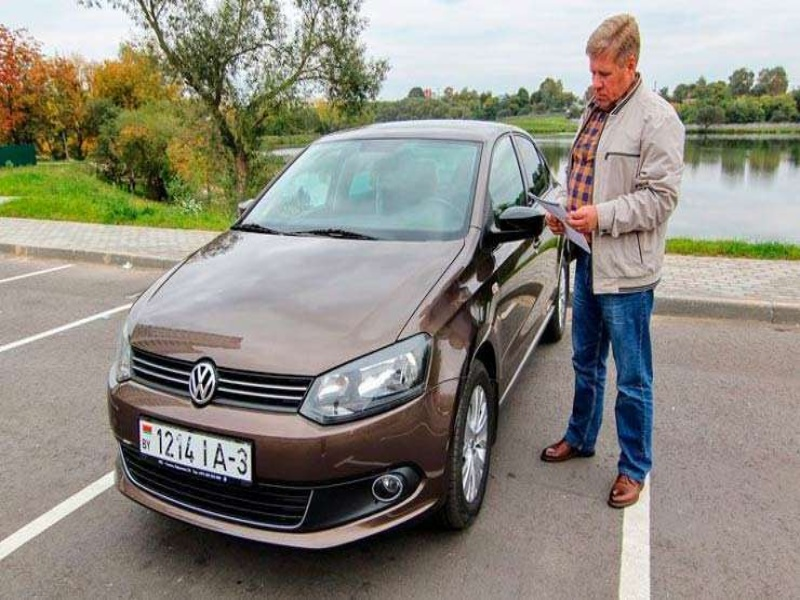car: (109, 118, 570, 549)
person: (544, 15, 686, 507)
plate: (138, 418, 252, 482)
